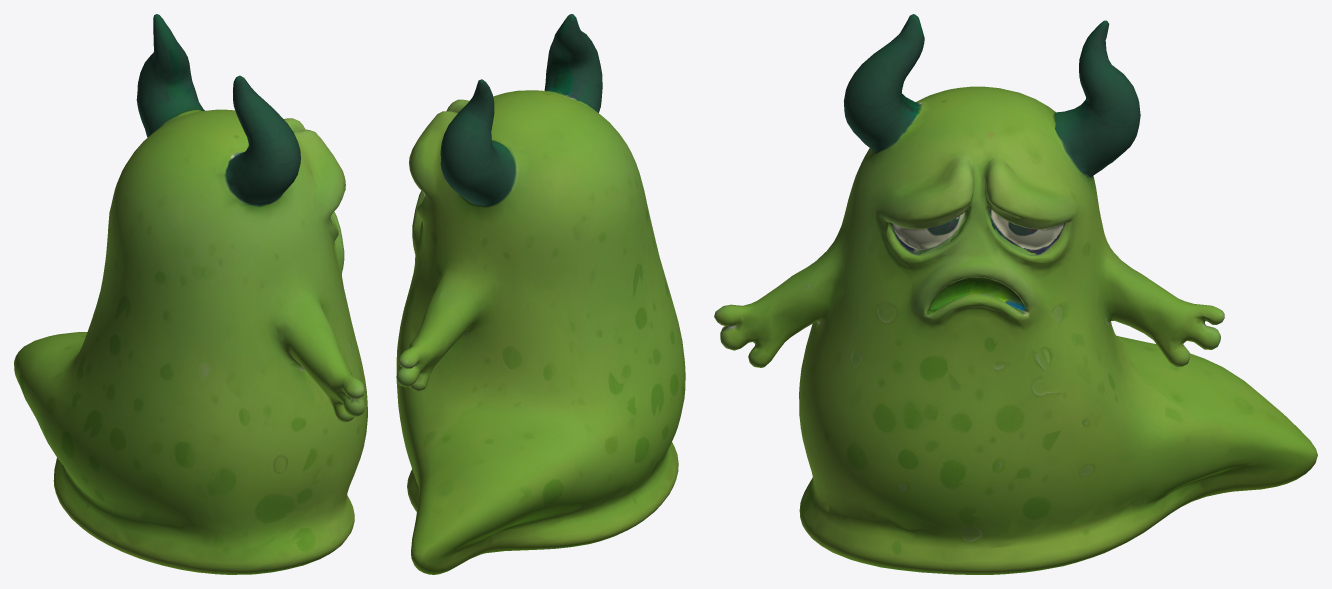
3 renders of one model, left to right at view 1: azimuth 30°, elevation 25°; view 2: azimuth 150°, elevation 25°; view 3: azimuth 270°, elevation 25°, orthographic. The views are drawn at different scales.
Parts seen in each view (by area): view 1: tripo_node_03efd661-4eb6-4478-b6f0-22b5c3b97830; view 2: tripo_node_03efd661-4eb6-4478-b6f0-22b5c3b97830; view 3: tripo_node_03efd661-4eb6-4478-b6f0-22b5c3b97830.
Part boxes in pixels (x1,y1,x2,y2): tripo_node_03efd661-4eb6-4478-b6f0-22b5c3b97830: (14, 14, 367, 574); tripo_node_03efd661-4eb6-4478-b6f0-22b5c3b97830: (396, 14, 685, 574); tripo_node_03efd661-4eb6-4478-b6f0-22b5c3b97830: (714, 14, 1317, 574).
Bounding box in the file's own units: 51.97 × 93.96 × 100.
Materials: 1 (1 with a texture image).
